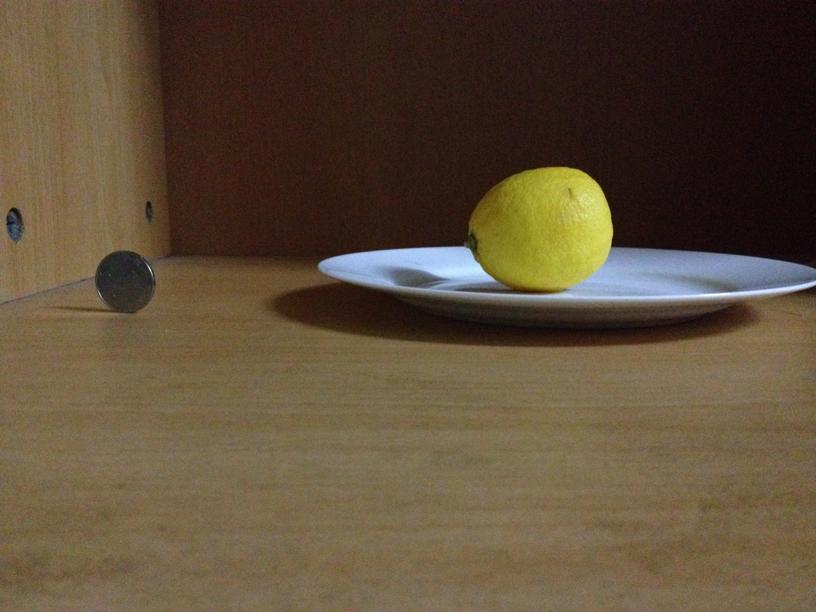coin: (91, 250, 156, 313)
lemon: (470, 167, 615, 289)
